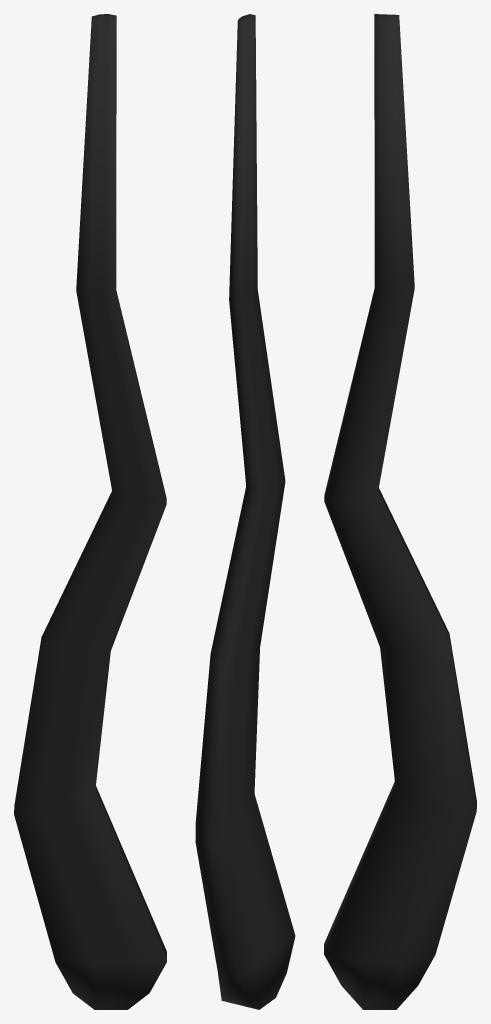
File: MiscClockHandMinute.fbx
3 renders of one model, left to right at view 1: azimuth 90°, elevation 25°; view 2: azimuth 150°, elevation 25°; view 3: azimuth 270°, elevation 25°, orthographic.
Visible parts, largest first — view 1: pCube1; view 2: pCube1; view 3: pCube1.
Part boxes in pixels (x1=…): pCube1: x1=14, y1=14, x2=166, y2=1009; pCube1: x1=195, y1=14, x2=295, y2=1009; pCube1: x1=324, y1=14, x2=476, y2=1009.
Bounding box in the file's own units: 0.0998 × 2.49 × 0.3497.
